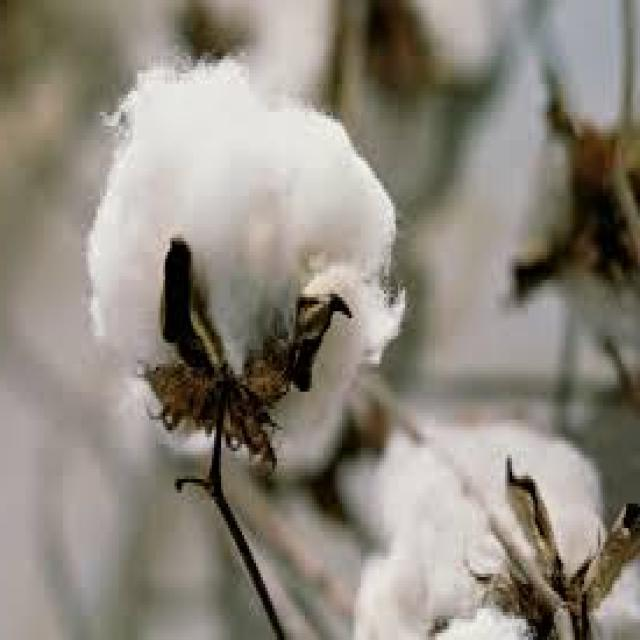Matured Cotton Boll: (95, 68, 392, 464), (354, 409, 602, 640)
